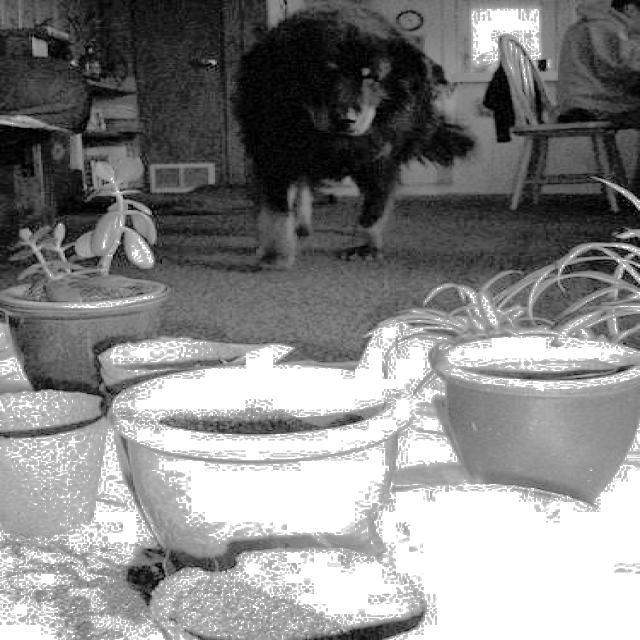Dog: (240, 1, 474, 266)
